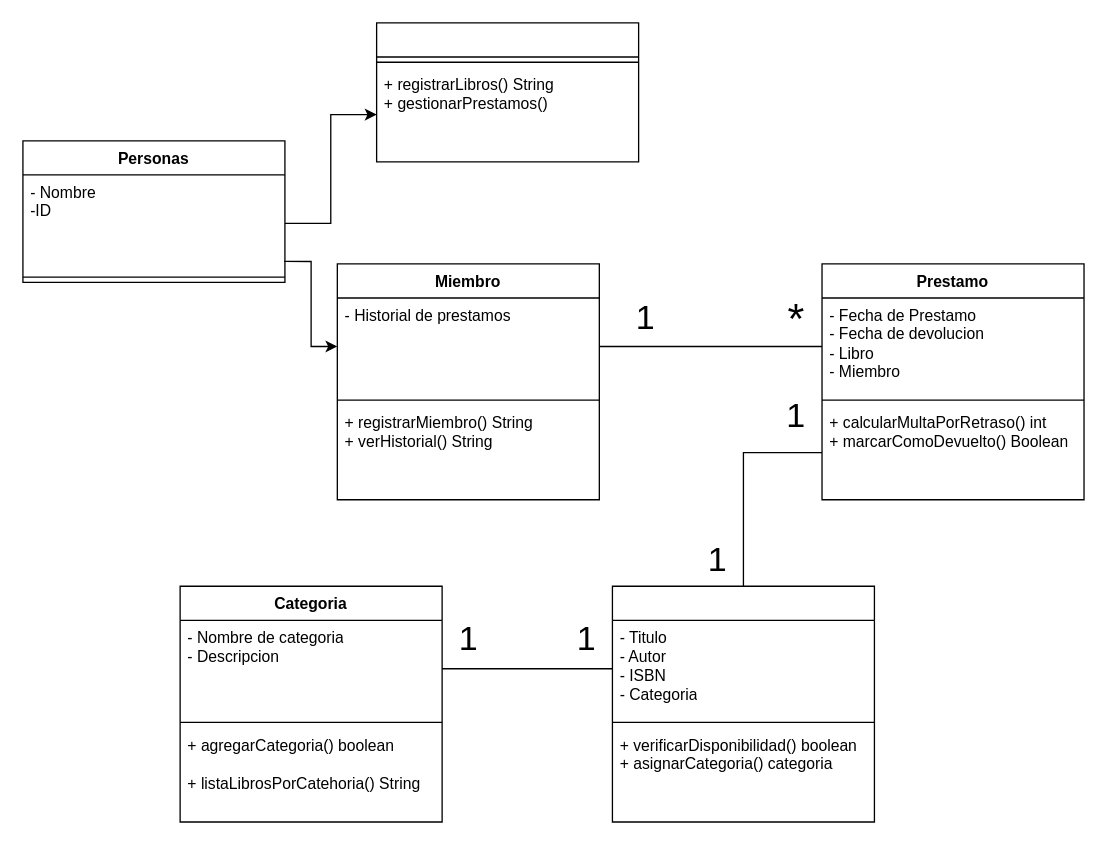
This 1107x849 diagram has some shape labels left out. Each missing label, with the box of its shape:
Bibliotecario: (375, 22, 639, 162)
Libro: (611, 585, 874, 822)
